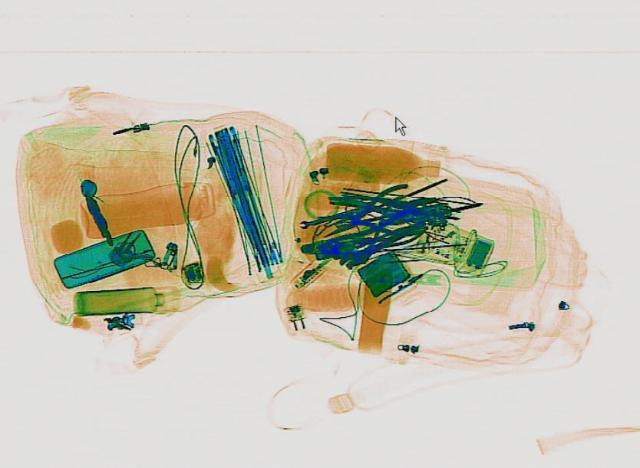Pliers: (308, 181, 428, 249), (316, 184, 446, 238)
